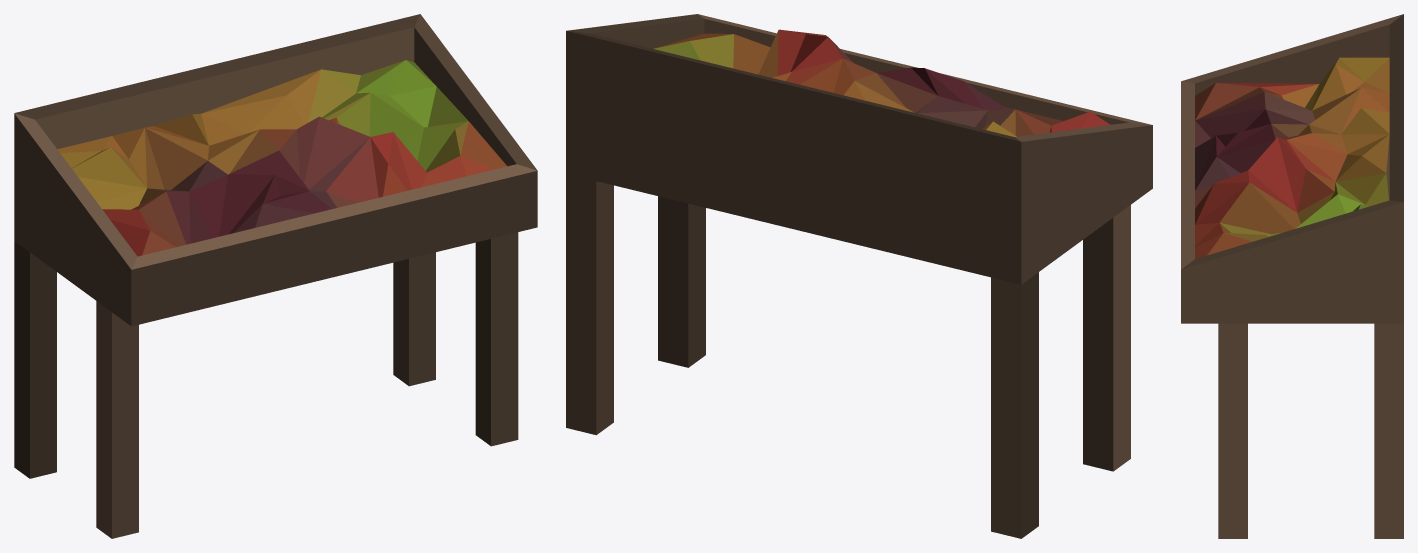
File: Prop_MerchantTableC.fbx
3 views of the same model, side by side, from view 1: azimuth 30°, elevation 25°; view 2: azimuth 150°, elevation 25°; view 3: azimuth 270°, elevation 25° (orthographic). The views are drawn at different scales.
Parts seen in each view (by area): view 1: Prop_MerchantTableC; view 2: Prop_MerchantTableC; view 3: Prop_MerchantTableC.
Boxes of the visible parts, x1,y1,x2,y2 form: Prop_MerchantTableC: [14, 14, 537, 538]; Prop_MerchantTableC: [566, 14, 1152, 538]; Prop_MerchantTableC: [1181, 14, 1403, 538].
Size of the model in its own units: 150 by 125 by 75.
